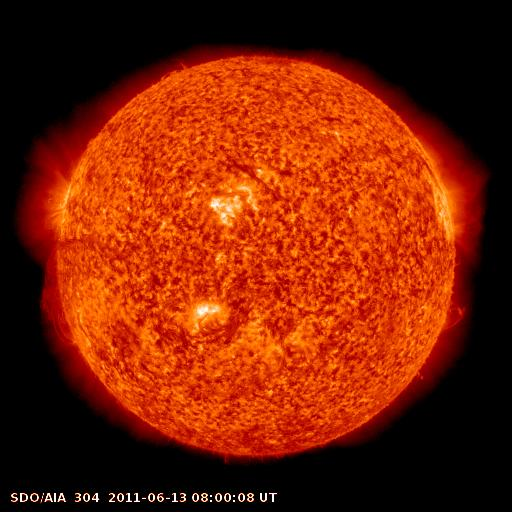prominence: (39, 243, 76, 345), (434, 296, 471, 333)
